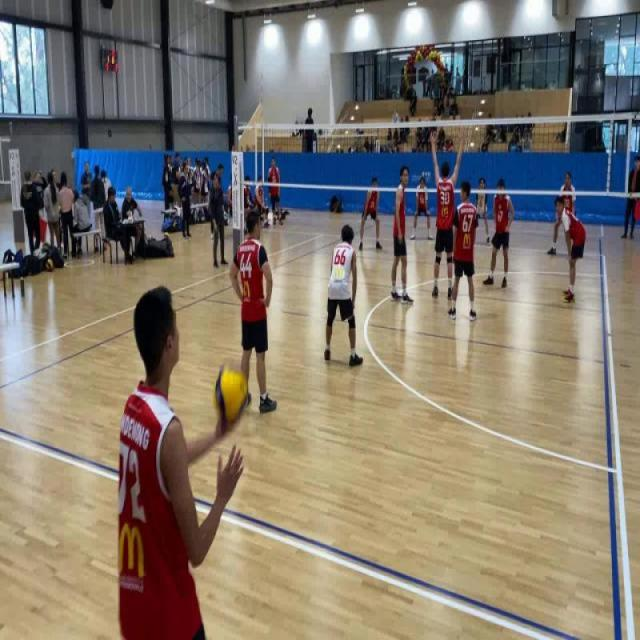volleyball: (212, 358, 250, 428), (45, 258, 54, 272), (163, 231, 170, 239), (58, 204, 62, 216), (148, 234, 152, 241)
